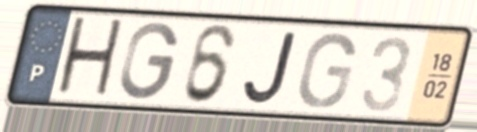3: (360, 34, 413, 114)
6: (180, 22, 237, 108)
G: (117, 20, 182, 103), (295, 30, 359, 111)
H: (51, 13, 128, 103)
J: (240, 28, 300, 107)
